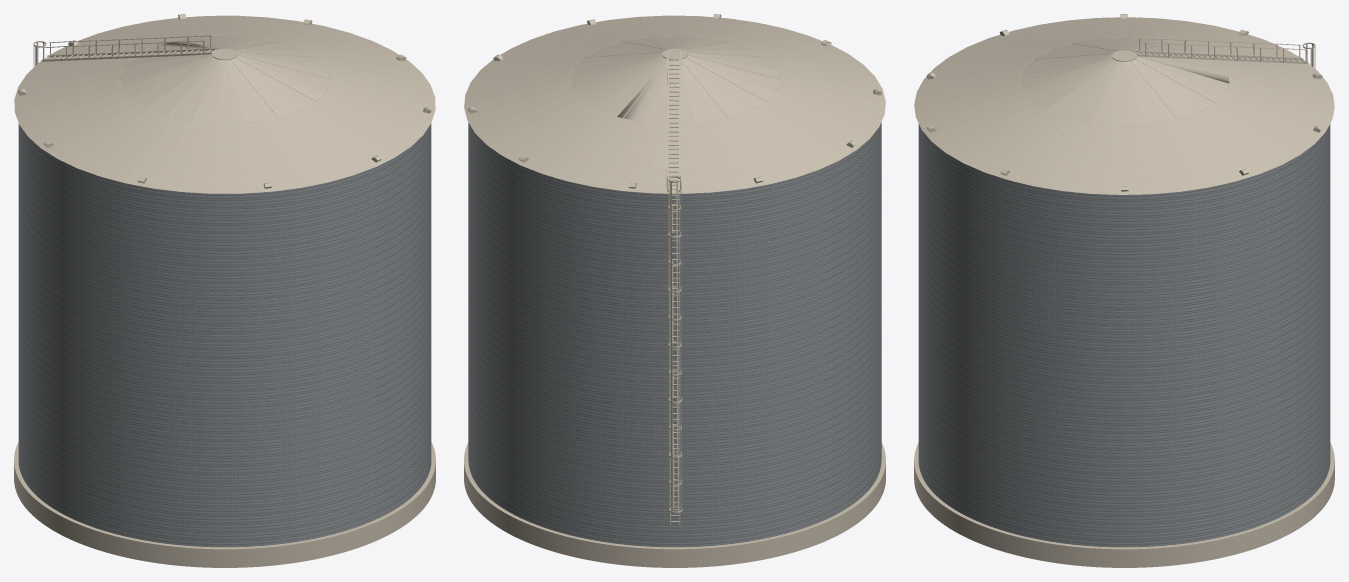
The model's file is warehouse_model.dae.
3 views of the same model, side by side, from view 1: azimuth 30°, elevation 25°; view 2: azimuth 150°, elevation 25°; view 3: azimuth 270°, elevation 25° (orthographic).
Visible parts, largest first — view 1: Grain_silo, _44.5__Ladder; view 2: Grain_silo, Silo_ladder (×2), Component_1 (×2), _44.5__Ladder; view 3: Grain_silo, _44.5__Ladder.
Boxes of the visible parts, box(x1,y1,x2,y2) form: Grain_silo: box(14, 14, 435, 567); _44.5__Ladder: box(41, 48, 217, 61); Grain_silo: box(464, 14, 885, 567); Silo_ladder (×2): box(668, 286, 682, 512); Component_1 (×2): box(668, 176, 681, 292); _44.5__Ladder: box(667, 58, 680, 191); Grain_silo: box(914, 14, 1334, 567); _44.5__Ladder: box(1132, 50, 1308, 63).
Size of the model in its own units: 1104 by 1104 by 1259.
3 materials, 3 textured.
